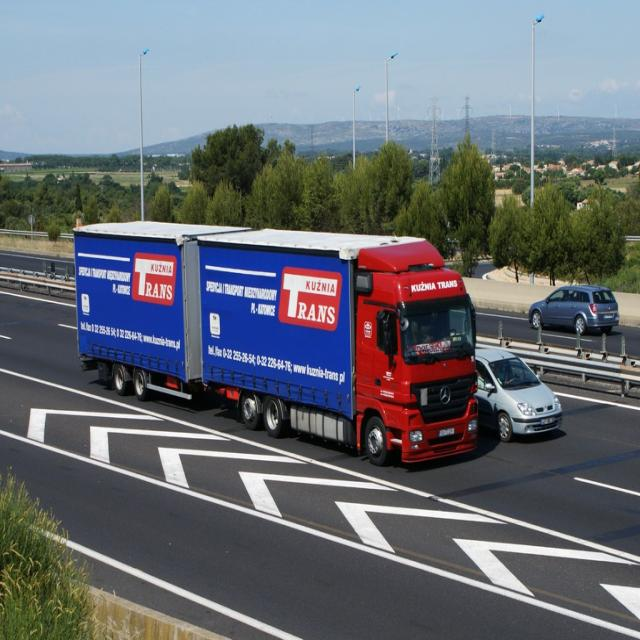car: (523, 278, 614, 341)
